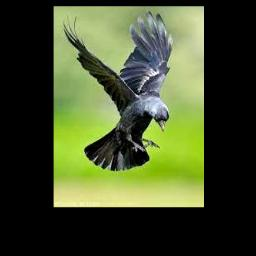Crow: (61, 11, 172, 170)
